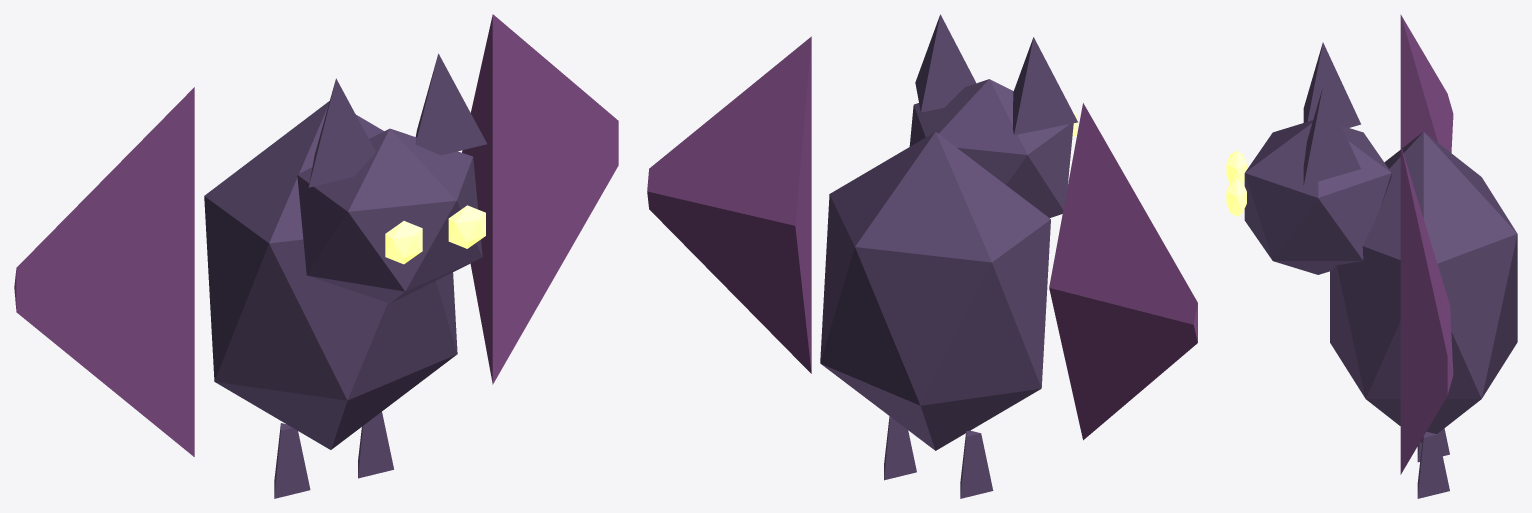
The model's file is mine-bat-v02.glb.
3 renders of one model, left to right at view 1: azimuth 30°, elevation 25°; view 2: azimuth 150°, elevation 25°; view 3: azimuth 270°, elevation 25°, orthographic. The views are drawn at different scales.
Parts seen in each view (by area): view 1: Mine bat body, Mine bat wing, Mine bat wing.001, Mine bat head, Mine bat ear.001, Mine bat ear, Mine bat foot, Mine bat foot.001, Mine bat eye.001, Mine bat eye; view 2: Mine bat body, Mine bat wing.001, Mine bat wing, Mine bat head, Mine bat ear, Mine bat ear.001, Mine bat foot, Mine bat foot.001; view 3: Mine bat body, Mine bat head, Mine bat wing.001, Mine bat wing, Mine bat ear.001, Mine bat ear, Mine bat foot.001, Mine bat eye.001, Mine bat eye.
Boxes of the visible parts, left/top/right/bottom form: Mine bat body: left=204, top=101, right=457, bottom=449; Mine bat wing: left=14, top=87, right=194, bottom=456; Mine bat wing.001: left=462, top=14, right=618, bottom=384; Mine bat head: left=297, top=128, right=482, bottom=303; Mine bat ear.001: left=415, top=53, right=486, bottom=155; Mine bat ear: left=308, top=78, right=375, bottom=187; Mine bat foot: left=274, top=423, right=310, bottom=498; Mine bat foot.001: left=358, top=412, right=393, bottom=478; Mine bat eye.001: left=448, top=205, right=485, bottom=248; Mine bat eye: left=385, top=221, right=422, bottom=264; Mine bat body: left=820, top=132, right=1050, bottom=450; Mine bat wing.001: left=647, top=36, right=811, bottom=373; Mine bat wing: left=1049, top=103, right=1197, bottom=440; Mine bat head: left=909, top=79, right=1073, bottom=217; Mine bat ear: left=1012, top=37, right=1077, bottom=135; Mine bat ear.001: left=915, top=14, right=976, bottom=112; Mine bat foot: left=960, top=430, right=993, bottom=498; Mine bat foot.001: left=884, top=416, right=916, bottom=480; Mine bat body: left=1330, top=131, right=1517, bottom=442; Mine bat head: left=1244, top=120, right=1391, bottom=274; Mine bat wing.001: left=1400, top=144, right=1453, bottom=474; Mine bat wing: left=1400, top=14, right=1453, bottom=152; Mine bat ear.001: left=1303, top=87, right=1360, bottom=185; Mine bat ear: left=1303, top=42, right=1361, bottom=128; Mine bat foot.001: left=1417, top=431, right=1449, bottom=498; Mine bat eye.001: left=1226, top=178, right=1246, bottom=216; Mine bat eye: left=1226, top=150, right=1246, bottom=183.
Size of the model in its own units: 1.29 by 0.94 by 0.6069.
